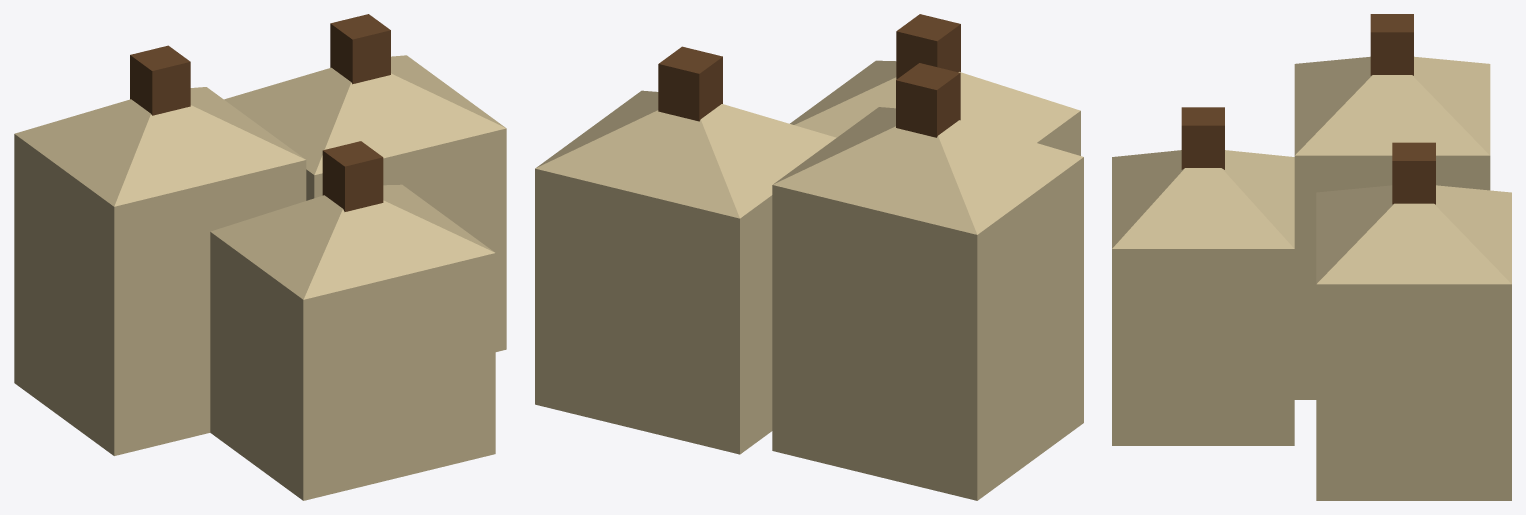
File: camp_sacks.glb
3 renders of one model, left to right at view 1: azimuth 30°, elevation 25°; view 2: azimuth 150°, elevation 25°; view 3: azimuth 270°, elevation 25°, orthographic. The views are drawn at different scales.
Visible parts, largest first — view 1: camp_sacks; view 2: camp_sacks; view 3: camp_sacks.
Boxes of the visible parts, left/top/right/bottom form: camp_sacks: left=14, top=14, right=506, bottom=500; camp_sacks: left=535, top=14, right=1083, bottom=500; camp_sacks: left=1112, top=14, right=1511, bottom=500.
Size of the model in its own units: 1.05 by 0.84 by 0.92.
1 material, 1 textured.
